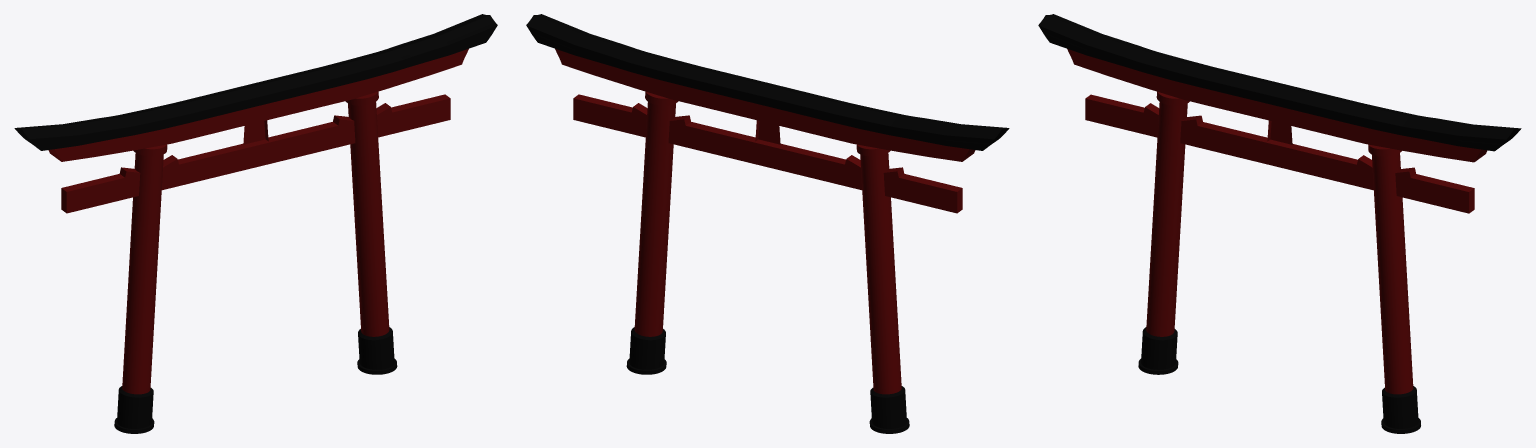
Rendered from Inari_2.obj.
3 renders of one model, left to right at view 1: azimuth 30°, elevation 25°; view 2: azimuth 150°, elevation 25°; view 3: azimuth 330°, elevation 25°, orthographic.
Parts seen in each view (by area): view 1: Cube.024_Cube.031; view 2: Cube.024_Cube.031; view 3: Cube.024_Cube.031.
Boxes of the visible parts, x1=… form: Cube.024_Cube.031: x1=14, y1=14, x2=497, y2=433; Cube.024_Cube.031: x1=526, y1=14, x2=1009, y2=433; Cube.024_Cube.031: x1=1038, y1=14, x2=1521, y2=433.
Bounding box in the file's own units: 19.43 × 12.85 × 1.42.
